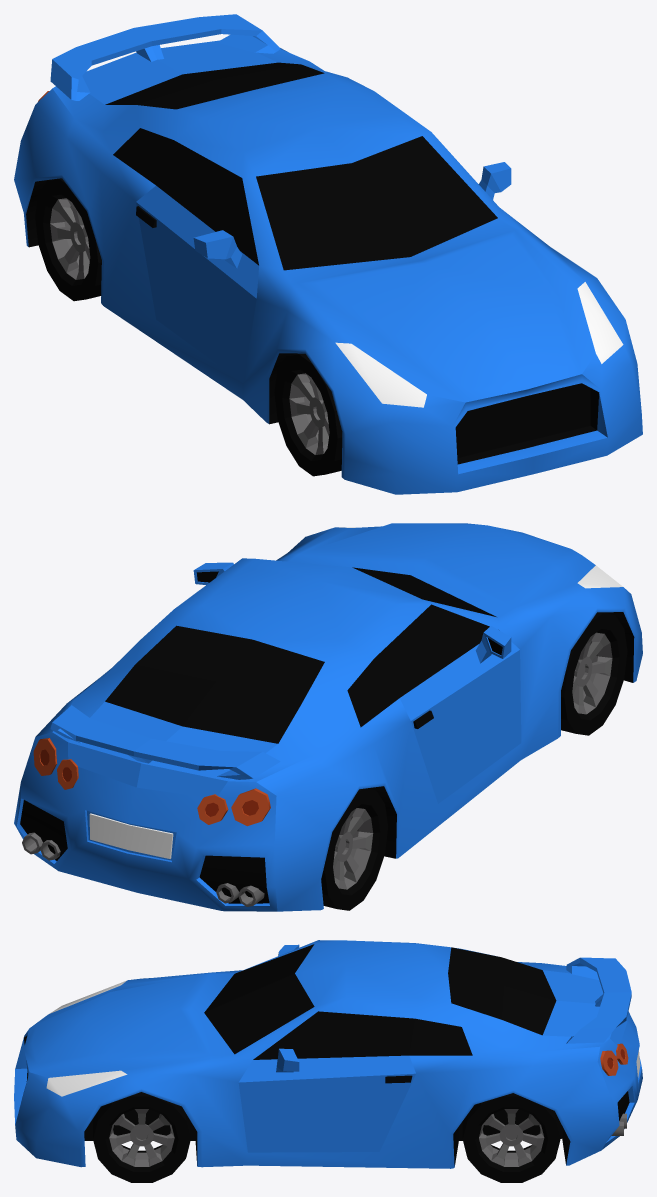
3 views of the same model, one above another, from view 1: azimuth 30°, elevation 25°; view 2: azimuth 150°, elevation 25°; view 3: azimuth 270°, elevation 25° (orthographic). The views are drawn at different scales.
Visible parts, largest first — view 1: chassis_0, windscreen_1, door_R_2, boot_6, wheel_front_R_12, wheel_rear_R_13, door_window_R_8, rear_window_4, side_window_R_9, door_L_14; view 2: chassis_0, rear_window_4, door_R_2, boot_6, wheel_front_R_12, wheel_rear_R_13, door_window_R_8, side_window_R_9, windscreen_1, door_L_14; view 3: chassis_0, door_L_14, wheel_front_L_10, windscreen_1, wheel_rear_L_11, rear_window_4, boot_6, door_window_L_5, side_window_L_3.
Part boxes in pixels (x1,y1,x2,y2): chassis_0: [14, 48, 642, 494]; windscreen_1: [256, 136, 497, 270]; door_R_2: [136, 185, 258, 382]; boot_6: [50, 14, 280, 104]; wheel_front_R_12: [274, 353, 342, 476]; wheel_rear_R_13: [35, 178, 101, 301]; door_window_R_8: [156, 140, 258, 265]; rear_window_4: [105, 62, 324, 109]; side_window_R_9: [113, 128, 173, 185]; door_L_14: [478, 162, 511, 199]; chassis_0: [14, 523, 642, 911]; rear_window_4: [105, 625, 324, 743]; door_R_2: [399, 626, 521, 803]; boot_6: [50, 701, 280, 797]; wheel_front_R_12: [561, 612, 627, 735]; wheel_rear_R_13: [321, 788, 388, 910]; door_window_R_8: [374, 604, 489, 697]; side_window_R_9: [347, 658, 399, 727]; windscreen_1: [352, 567, 496, 616]; door_L_14: [193, 562, 233, 584]; chassis_0: [14, 940, 642, 1168]; door_L_14: [238, 1048, 415, 1152]; wheel_front_L_10: [93, 1092, 190, 1182]; windscreen_1: [204, 944, 314, 1054]; wheel_rear_L_11: [462, 1093, 560, 1182]; rear_window_4: [448, 947, 556, 1035]; boot_6: [542, 957, 631, 1045]; door_window_L_5: [253, 1011, 414, 1059]; side_window_L_3: [409, 1018, 472, 1055].
Bounding box in the file's own units: 2.05 × 1.33 × 4.64.
1 material, 1 textured.
